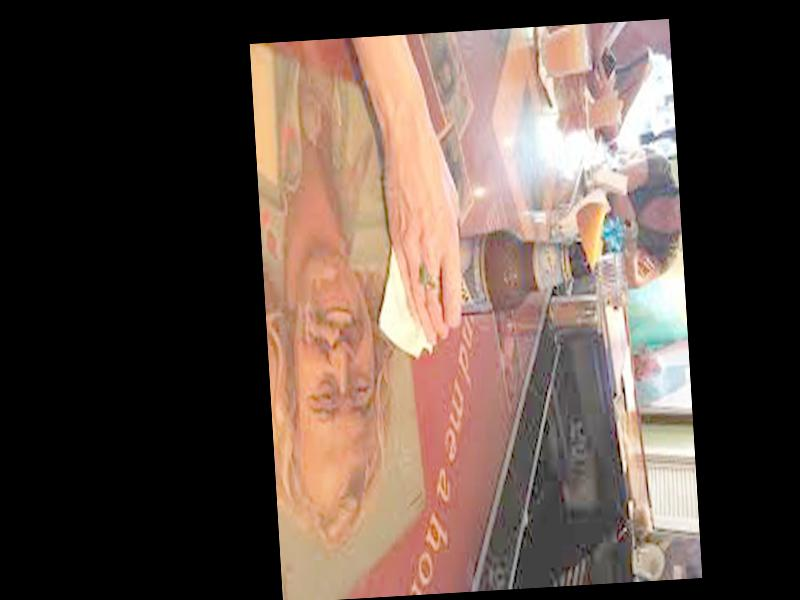Beer: (403, 229, 597, 322)
